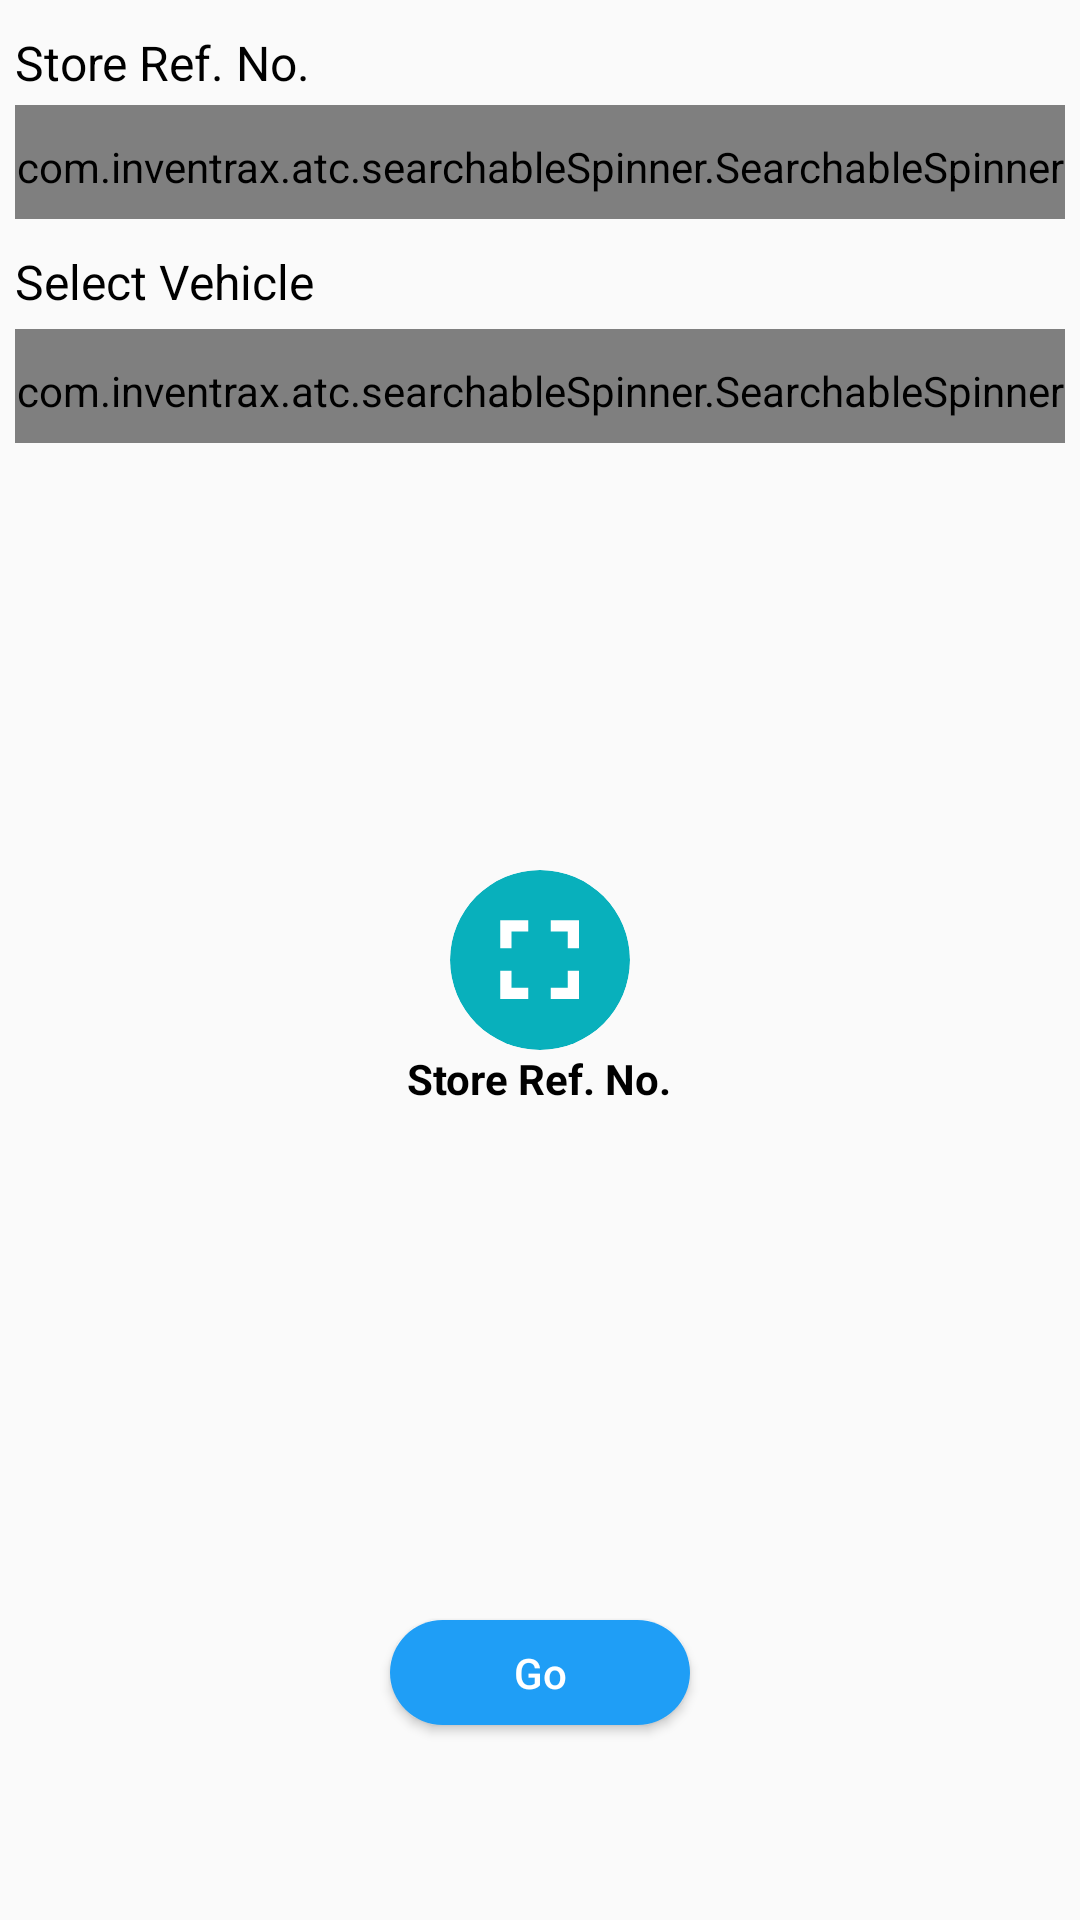

Screen size 1080 × 1920. Icon name, then its center in pixels as (x=x, y=y):
fullscreen: (x=539, y=959)
